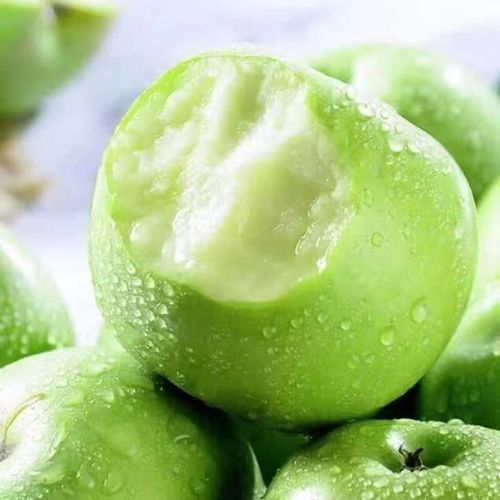unripe: (71, 27, 485, 439)
